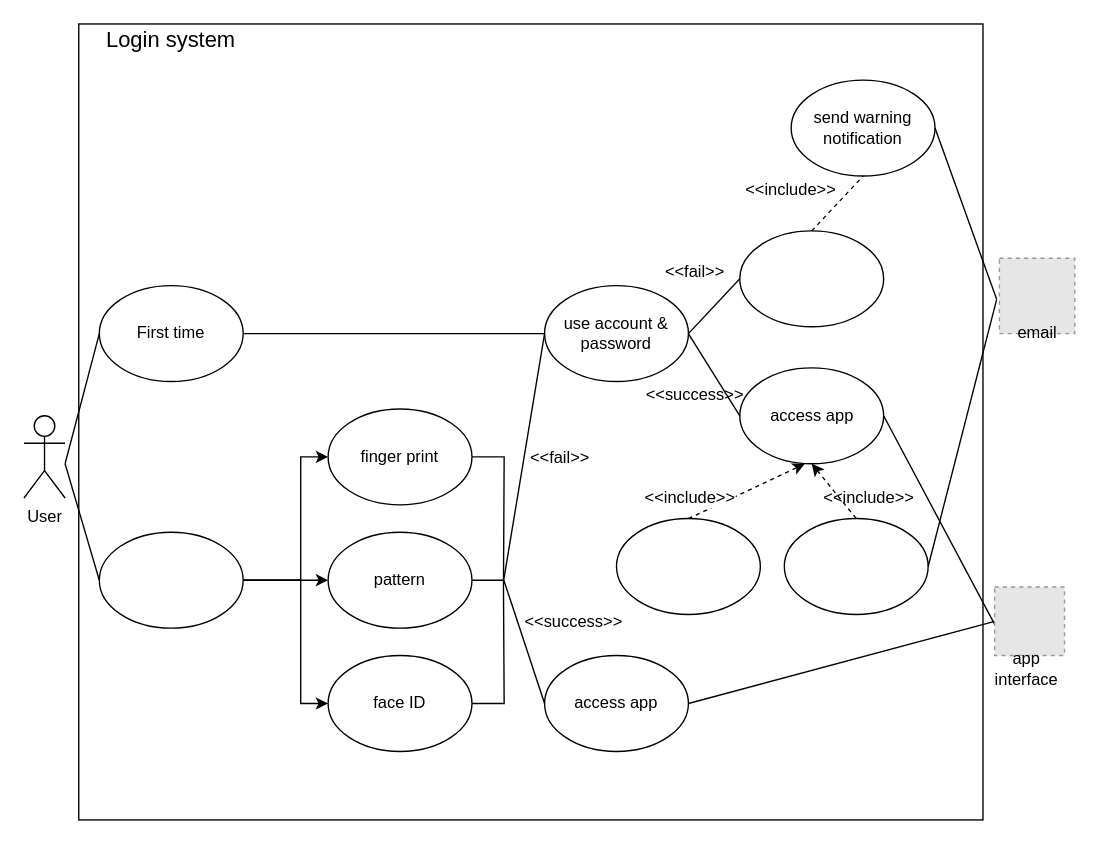
Image size: 1099x844. Some labels were removed from this diagram. Grey dashed boxes stand in for pictures. The box of each missing label's shape, as (x1, y1, x2, y2) in pixels:
freeze account: (738, 229, 884, 327)
quick login: (98, 531, 243, 628)
select quick login method: (615, 517, 760, 614)
send login notification: (783, 517, 928, 614)
